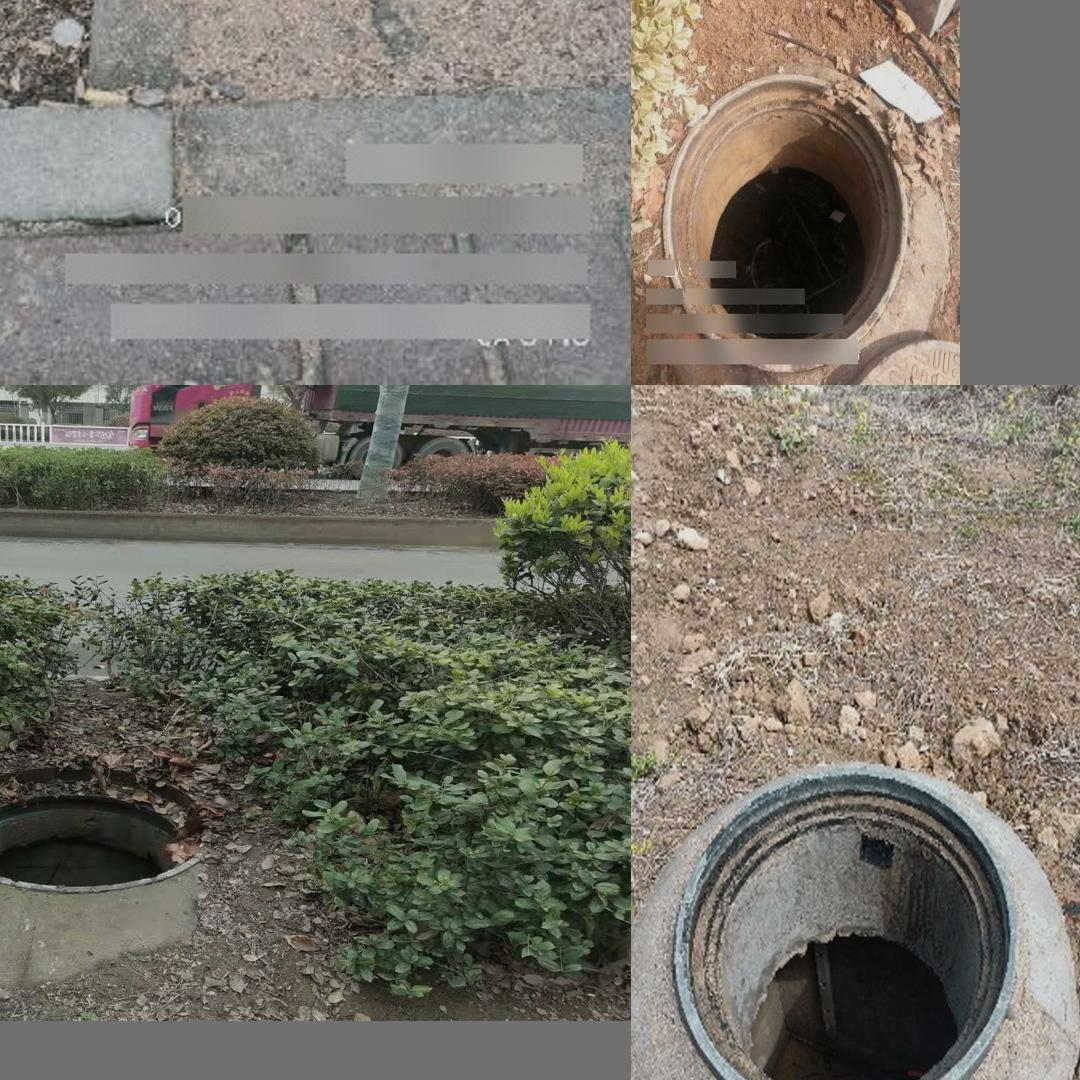lose: (674, 763, 1016, 1080), (663, 73, 907, 372), (0, 761, 209, 891)
